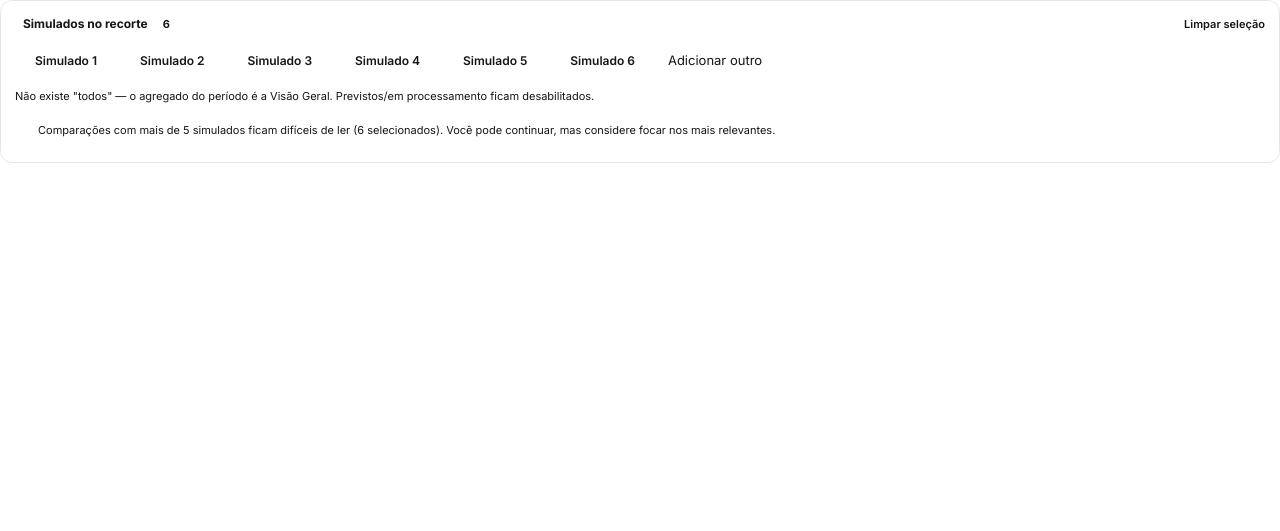
Test: SeletorSimulados › acima de 5 simulados avisa sobre legibilidade sem bloquear (§4.7.2, caso 5)
Expected: the message with test id "aviso-legibilidade" shows "6 selecionados", x1=38 y1=123 x2=775 y2=137
What coordinates should you click on to do the following:
click the button with aria-label "Escolher simulados"
I would click on:
 (715, 60)
Its box is x1=668 y1=49 x2=1257 y2=72.
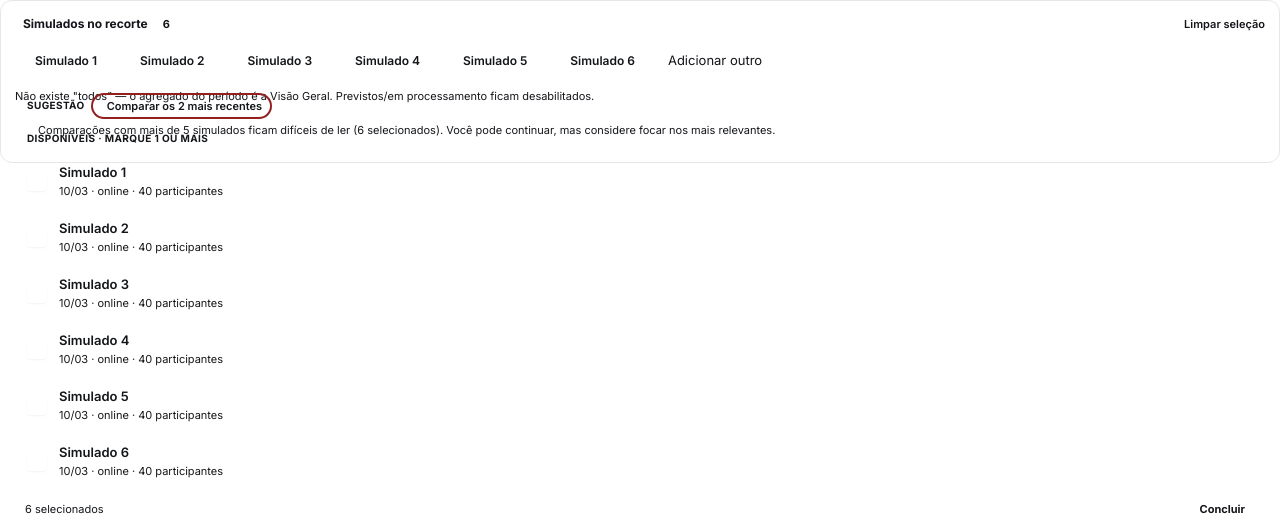
Now the checkbox named "Simulado 1 · 10/03 · online" is enabled, box x1=27 y1=164 x2=223 y2=198
Now the checkbox named "Simulado 2 · 10/03 · online" is enabled, box x1=27 y1=220 x2=223 y2=254
Now the checkbox named "Simulado 4 · 10/03 · online" is enabled, box x1=27 y1=332 x2=223 y2=366
